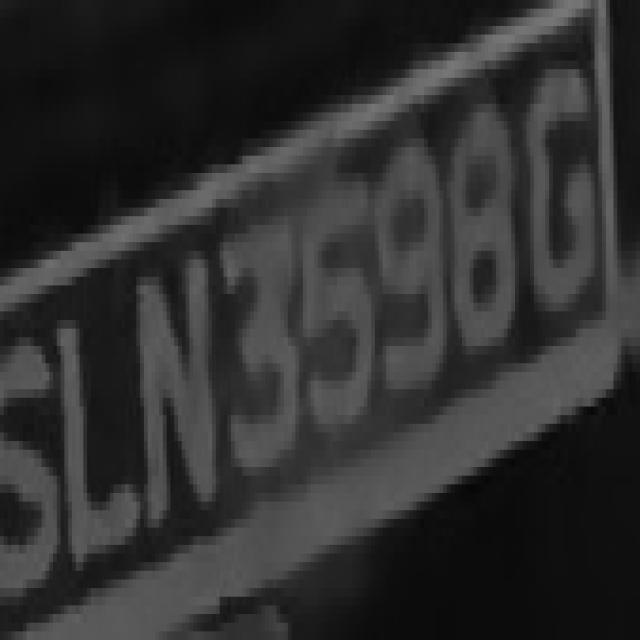3: (212, 199, 299, 484)
5: (303, 138, 379, 467)
8: (439, 69, 519, 398)
9: (364, 104, 443, 415)
G: (512, 43, 598, 363)
L: (57, 294, 144, 597)
N: (132, 250, 224, 528)
S: (0, 311, 57, 623)
